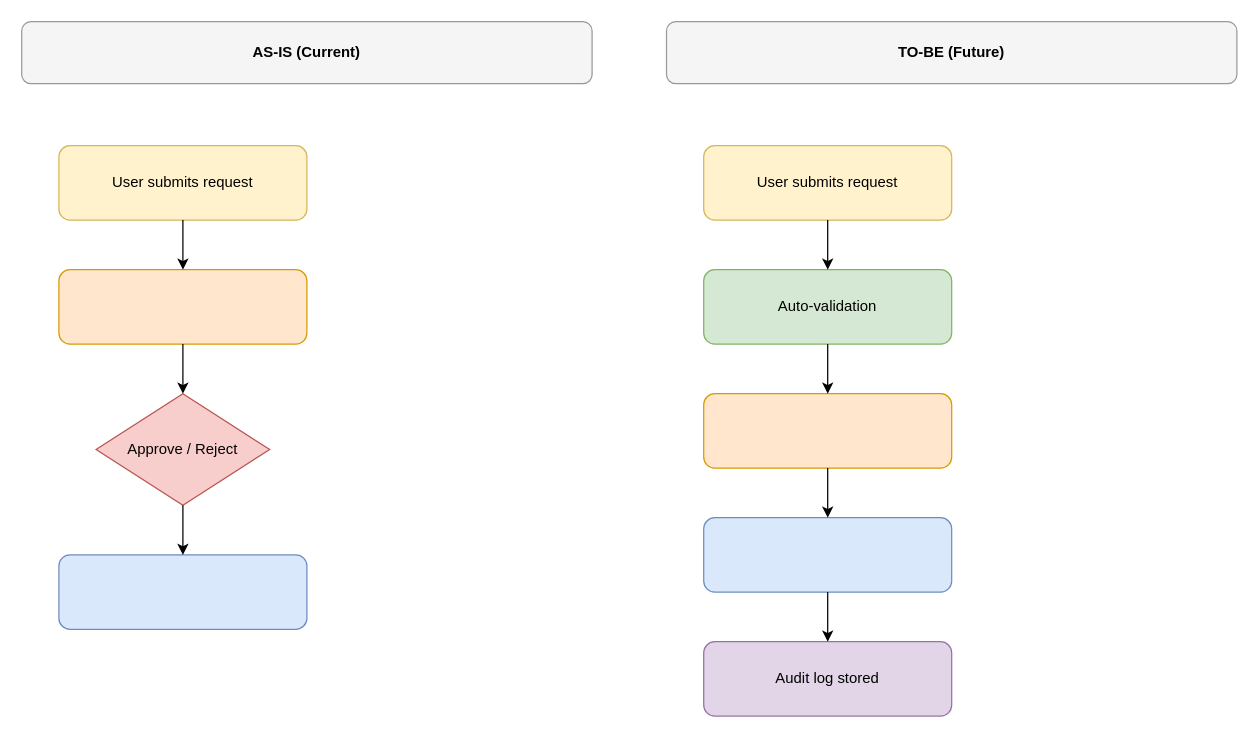
Image size: 1259x738. Some labels were removed from this diagram. The centre of each missing label's shape, as x and y in pixels:
Approval workflow: the point at 827,430
Instant notification: the point at 827,554
Manual review (staff): the point at 182,306
Notify user (email): the point at 182,591
